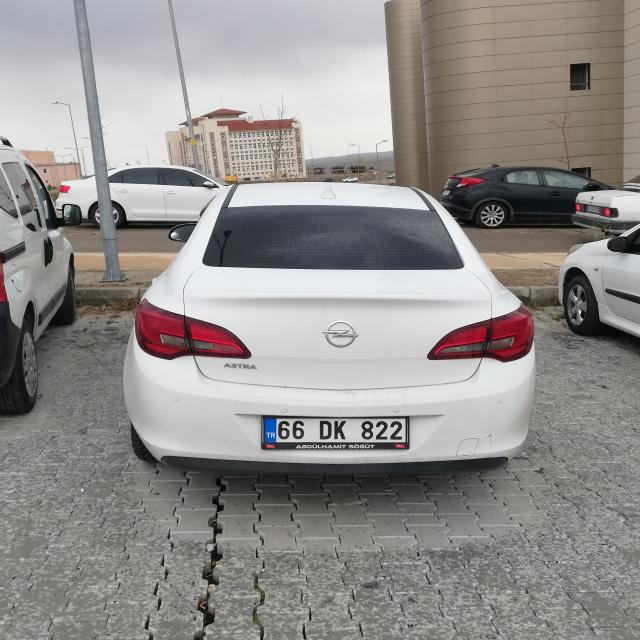license_plate: (262, 417, 408, 444)
